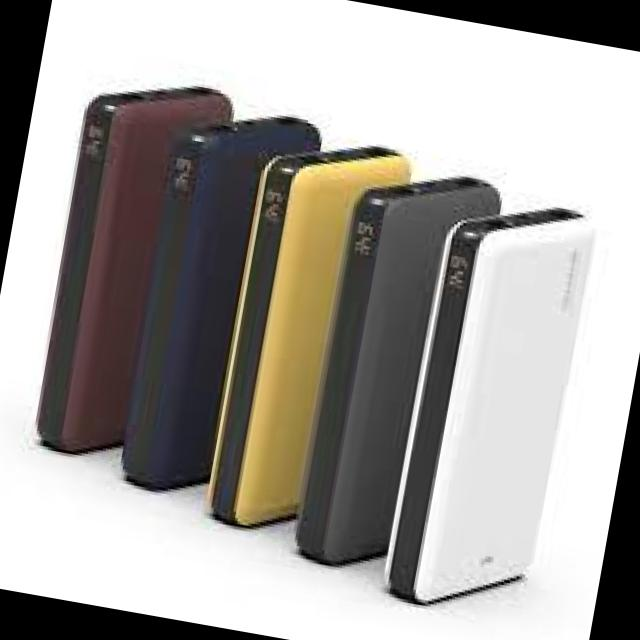power_bank: (374, 181, 600, 629), (192, 119, 420, 545), (102, 91, 333, 511), (290, 152, 510, 584), (18, 59, 242, 472)
